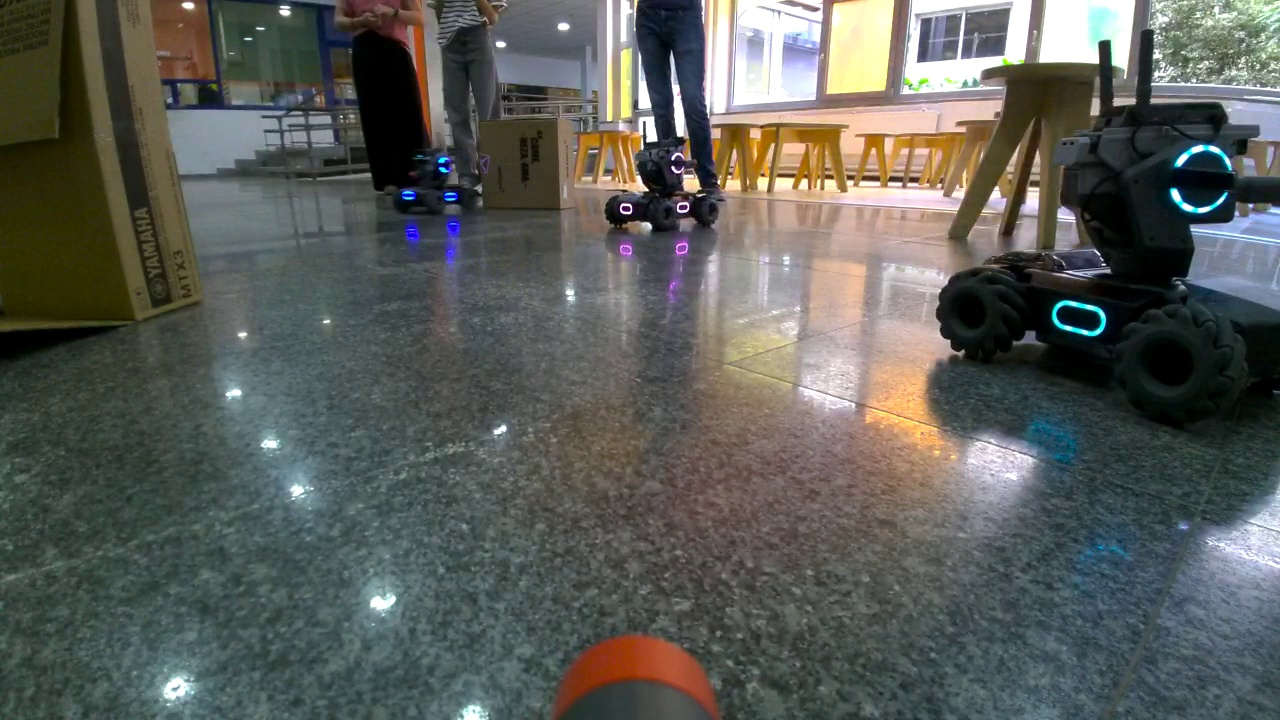robot: (941, 110, 1277, 424), (609, 150, 718, 239), (399, 155, 479, 219)
